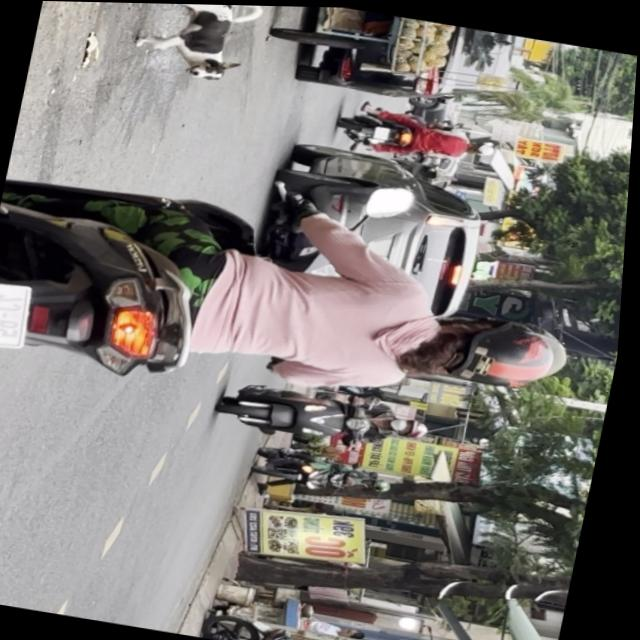helmet: (417, 304, 576, 398), (393, 414, 437, 438)
licenseplate: (0, 154, 593, 452), (218, 375, 442, 462)
nohelmet: (0, 281, 39, 354)
